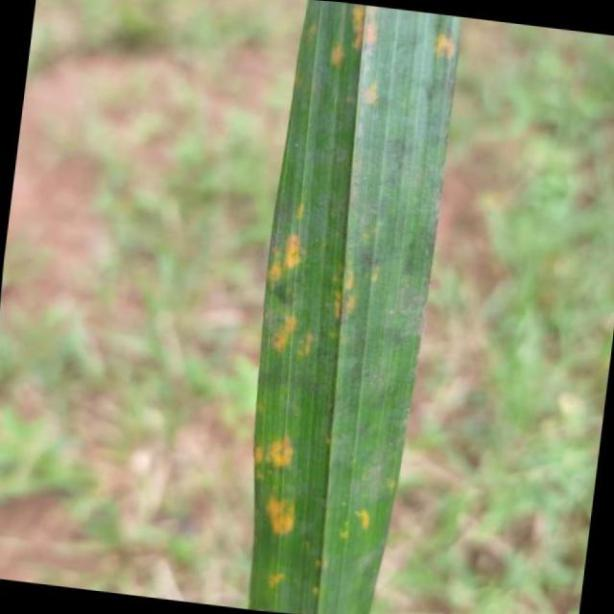Kalium: (253, 0, 462, 614)
